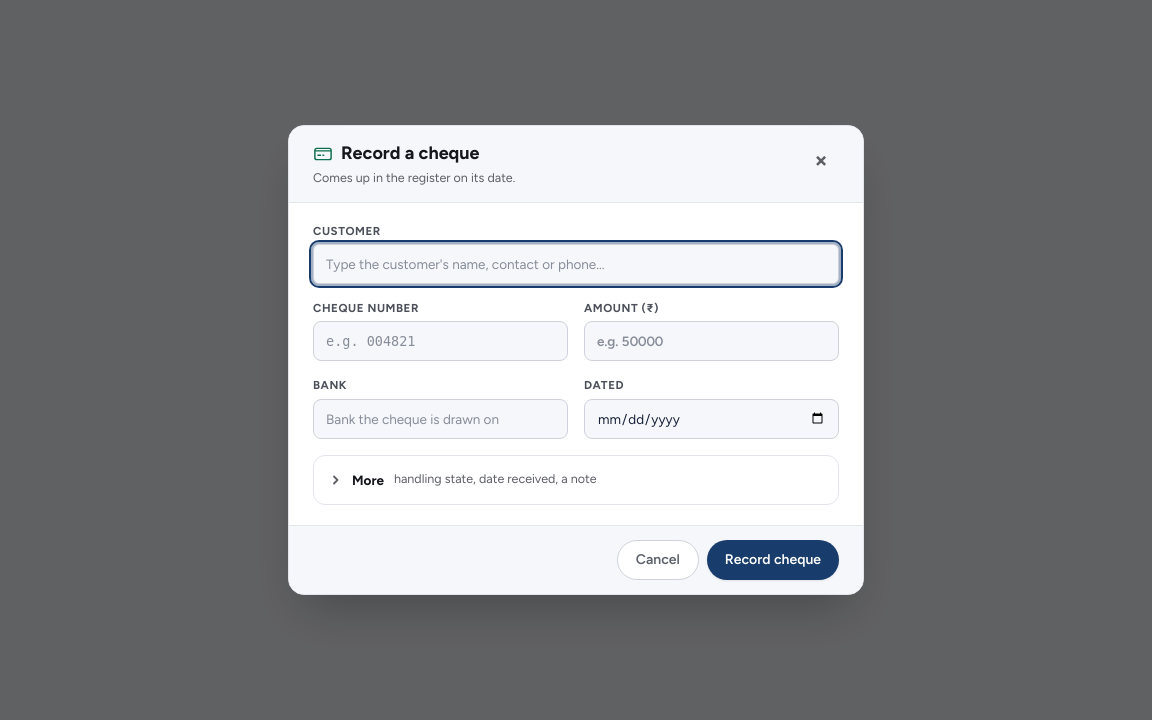
Test: the dialog guesses nothing › the customer is found by typing and chosen from the matches; the line shows their balance and owner
Type "beta" into the field labelled "Customer" at (576, 264), box [313, 244, 839, 284]
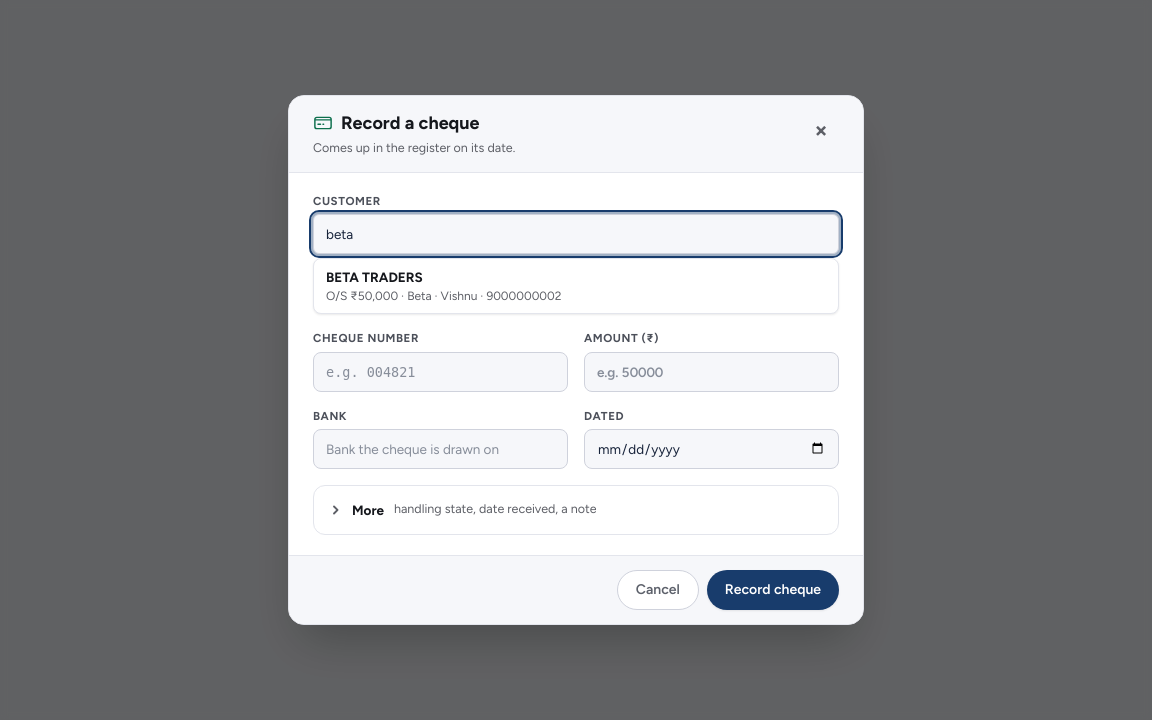
Expected: the number of options is 1
Click the option "BETA TRADERS O/S ₹50,000 · Beta · Vishnu · 9000000002" at (374, 277), box [314, 259, 838, 313]
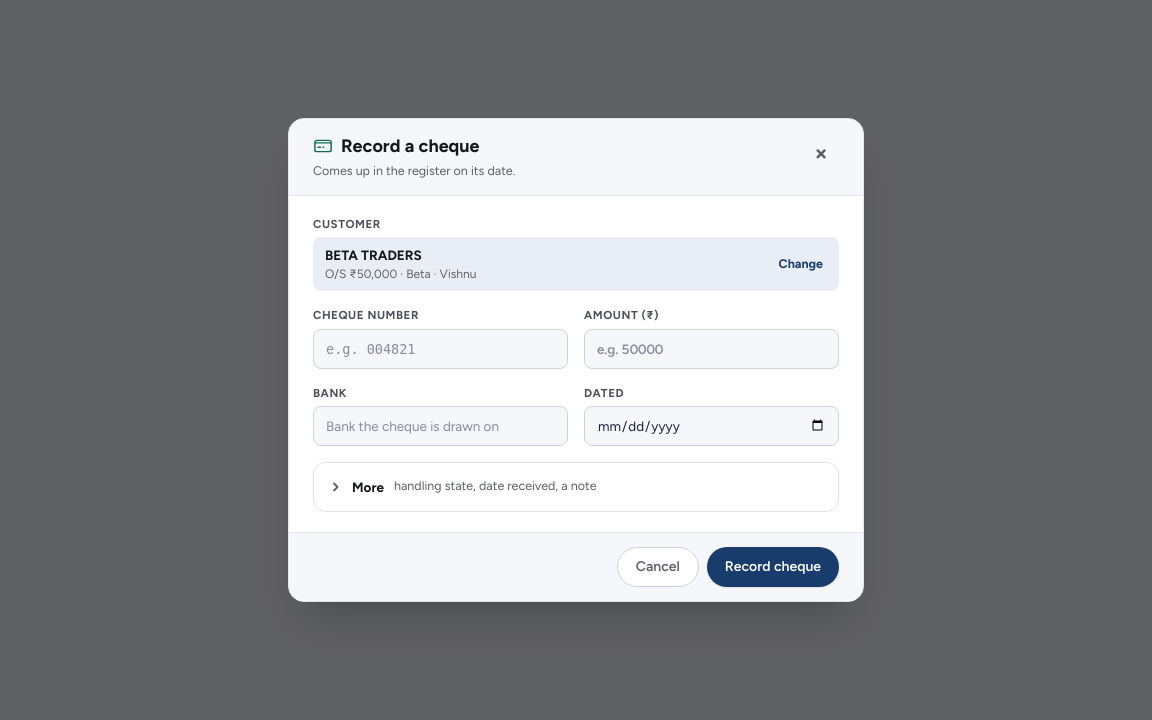
Expected: the text "BETA TRADERS" is shown, [325, 247, 422, 263]
Expected: the text "O/S ₹50,000" is shown, [325, 267, 476, 281]
Expected: the list is gone
Click the button "Change" at (801, 264), box [775, 249, 827, 279]
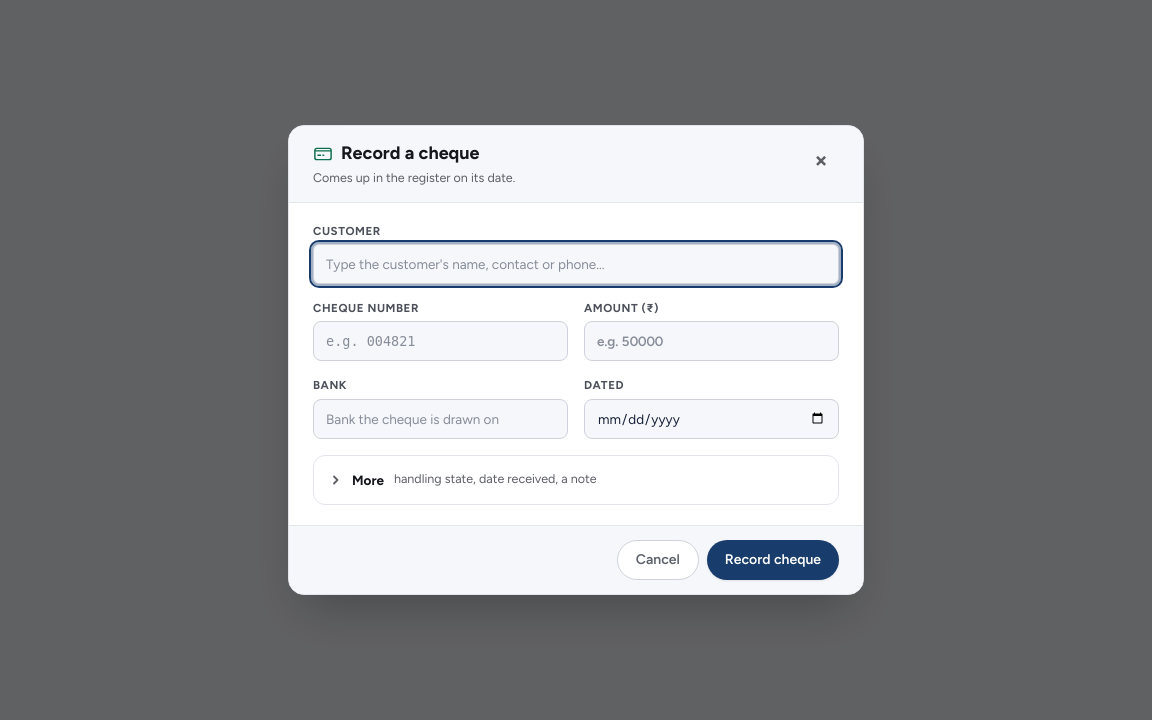
Expected: the field labelled "Customer" is shown, [313, 244, 839, 284]
